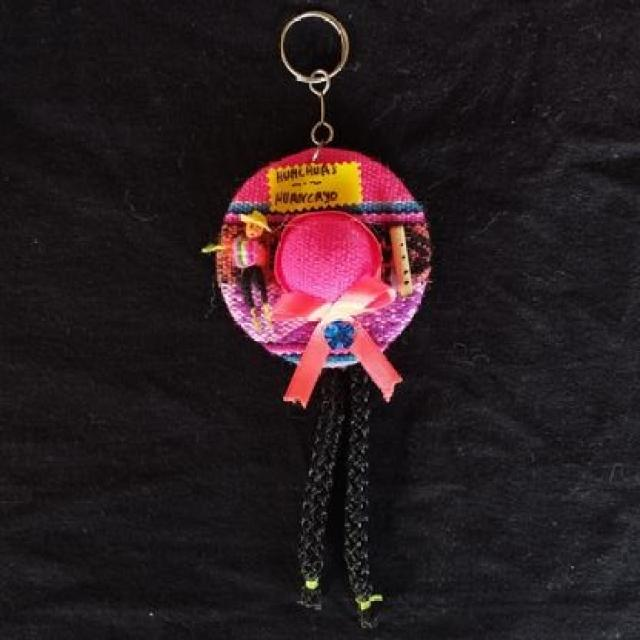Llavero: (204, 146, 433, 408)
